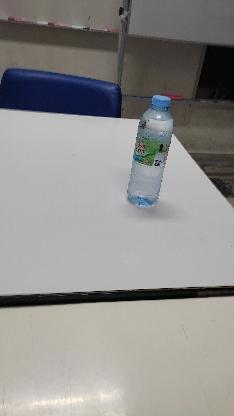Plastic Bottle: (124, 90, 177, 212)
